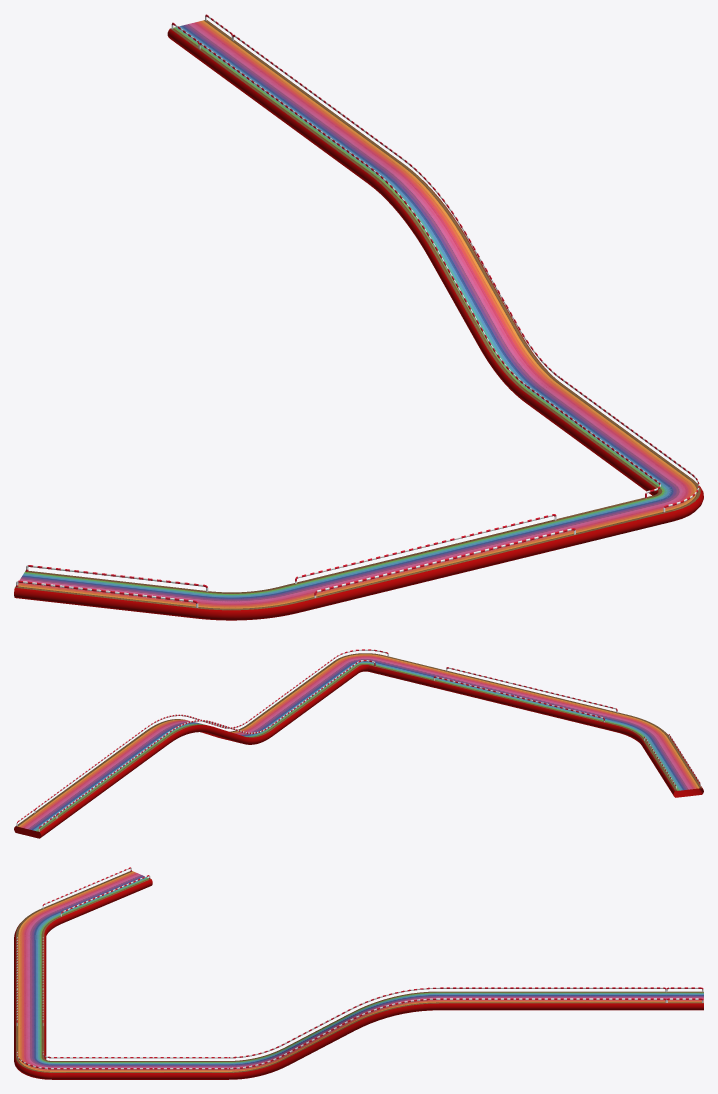
Rendered from map44_bonus.fbx.
3 views of the same model, one above another, from view 1: azimuth 30°, elevation 25°; view 2: azimuth 150°, elevation 25°; view 3: azimuth 270°, elevation 25° (orthographic). The views are drawn at different scales.
Parts seen in each view (by area): view 1: Normal; view 2: Normal; view 3: Normal.
Boxes of the visible parts, box(x1,y1,x2,y2) form: Normal: box(14, 14, 703, 620); Normal: box(14, 649, 703, 838); Normal: box(14, 867, 703, 1079).
Bounding box in the file's own units: 7649 × 1416 × 10945.
Materials: 6 (4 with a texture image).
